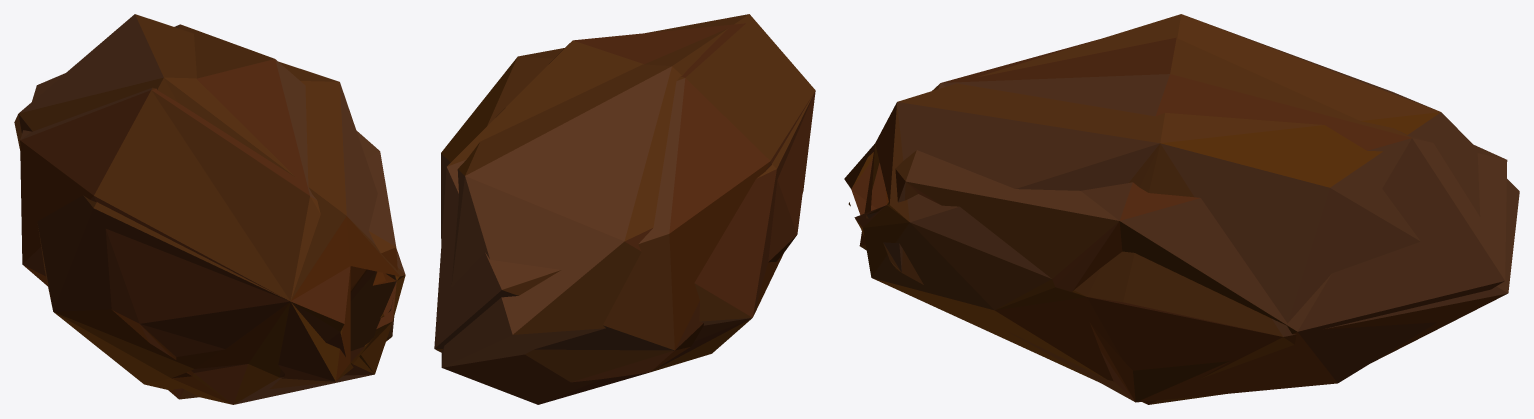
The model's file is coconut.glb.
3 views of the same model, side by side, from view 1: azimuth 30°, elevation 25°; view 2: azimuth 150°, elevation 25°; view 3: azimuth 270°, elevation 25° (orthographic). The views are drawn at different scales.
Visible parts, largest first — view 1: coconut; view 2: coconut; view 3: coconut.
Part boxes in pixels (<box>): coconut: <box>14,14,405,404</box>; coconut: <box>434,14,815,404</box>; coconut: <box>844,14,1519,404</box>.
Bounding box in the file's own units: 0.1271 × 0.1338 × 0.2406.
